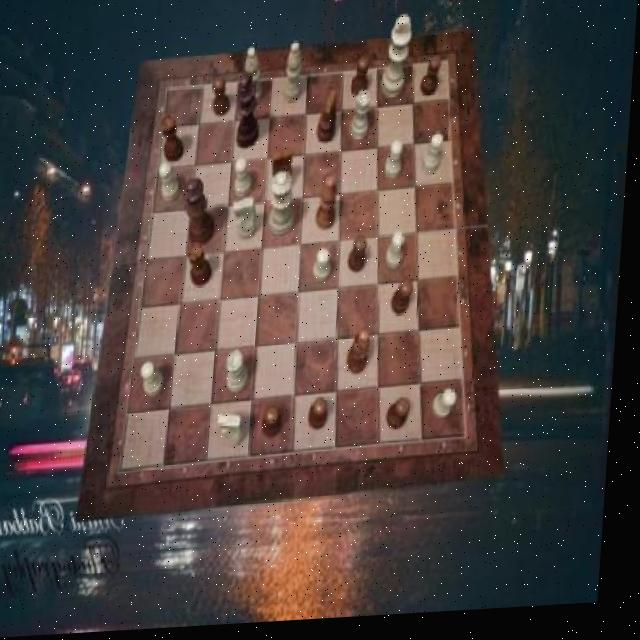bishop: (318, 179, 340, 234), (350, 332, 375, 379)
black-bishop: (235, 74, 263, 152)
black-king: (317, 93, 339, 148), (271, 152, 296, 199)
black-knight: (422, 62, 443, 103), (390, 402, 415, 436), (212, 80, 232, 121), (395, 284, 417, 321), (351, 61, 370, 102), (267, 410, 289, 444), (313, 402, 334, 435), (352, 241, 371, 277)
black-pawn: (182, 180, 221, 251)
black-queen: (160, 117, 187, 166), (189, 245, 216, 290)
black-rook: (243, 51, 266, 110), (285, 46, 306, 108)
white-bishop: (382, 19, 413, 104)
white-king: (233, 201, 260, 245), (222, 415, 251, 451)
white-knight: (160, 165, 185, 204), (424, 139, 446, 180), (145, 363, 169, 399), (437, 394, 463, 425), (236, 161, 256, 201), (386, 145, 405, 185), (388, 237, 408, 274), (316, 253, 335, 288)
white-pawn: (270, 175, 298, 242)
white-queen: (230, 352, 255, 396), (351, 95, 373, 145)
